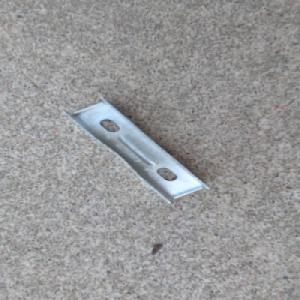ClampPart: (60, 96, 211, 204)
